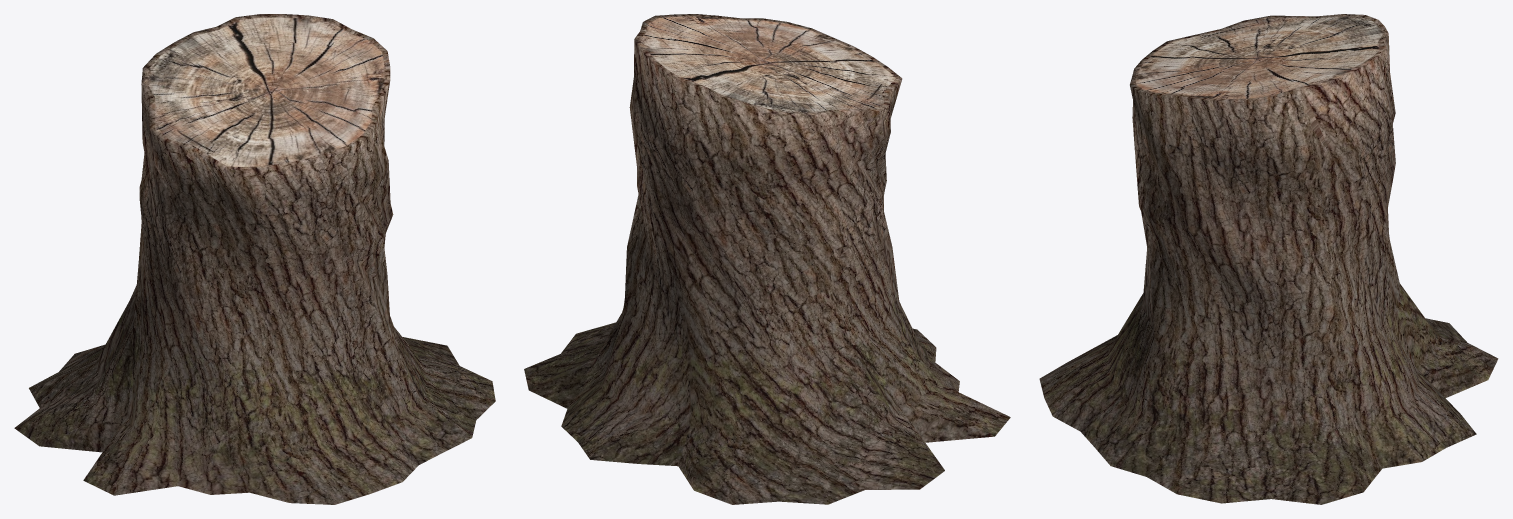
Rendered from Stump_Autumn_Adult.glb.
3 renders of one model, left to right at view 1: azimuth 30°, elevation 25°; view 2: azimuth 150°, elevation 25°; view 3: azimuth 270°, elevation 25°, orthographic. The views are drawn at different scales.
Visible parts, largest first — view 1: Stump_Autumn_Adult__LOD3; view 2: Stump_Autumn_Adult__LOD3; view 3: Stump_Autumn_Adult__LOD3.
Part boxes in pixels (<box>): Stump_Autumn_Adult__LOD3: <box>14,14,495,504</box>; Stump_Autumn_Adult__LOD3: <box>524,14,1010,504</box>; Stump_Autumn_Adult__LOD3: <box>1039,14,1498,504</box>.
Size of the model in its own units: 0.7401 by 0.6046 by 0.6856.
1 material, 1 textured.
